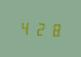eight: (47, 20, 60, 38)
four: (18, 18, 31, 36)
two: (33, 19, 46, 37)
